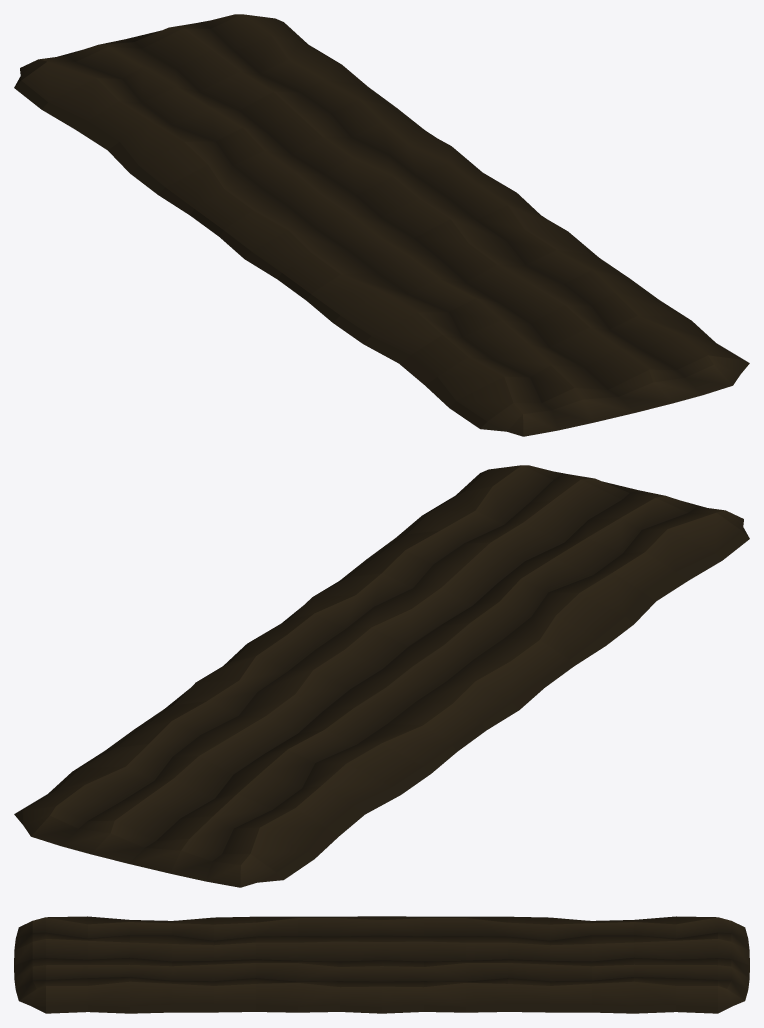
The model's file is Farm_Patch_Vegetable.fbx.
3 renders of one model, top to bottom at view 1: azimuth 30°, elevation 25°; view 2: azimuth 150°, elevation 25°; view 3: azimuth 270°, elevation 25°, orthographic. The views are drawn at different scales.
Parts seen in each view (by area): view 1: Farm_Patch_Vegetable; view 2: Farm_Patch_Vegetable; view 3: Farm_Patch_Vegetable.
Boxes of the visible parts, <box> form: Farm_Patch_Vegetable: <box>14,14,749,436</box>; Farm_Patch_Vegetable: <box>14,465,749,887</box>; Farm_Patch_Vegetable: <box>14,916,749,1013</box>.
Bounding box in the file's own units: 103 × 6.56 × 333.
